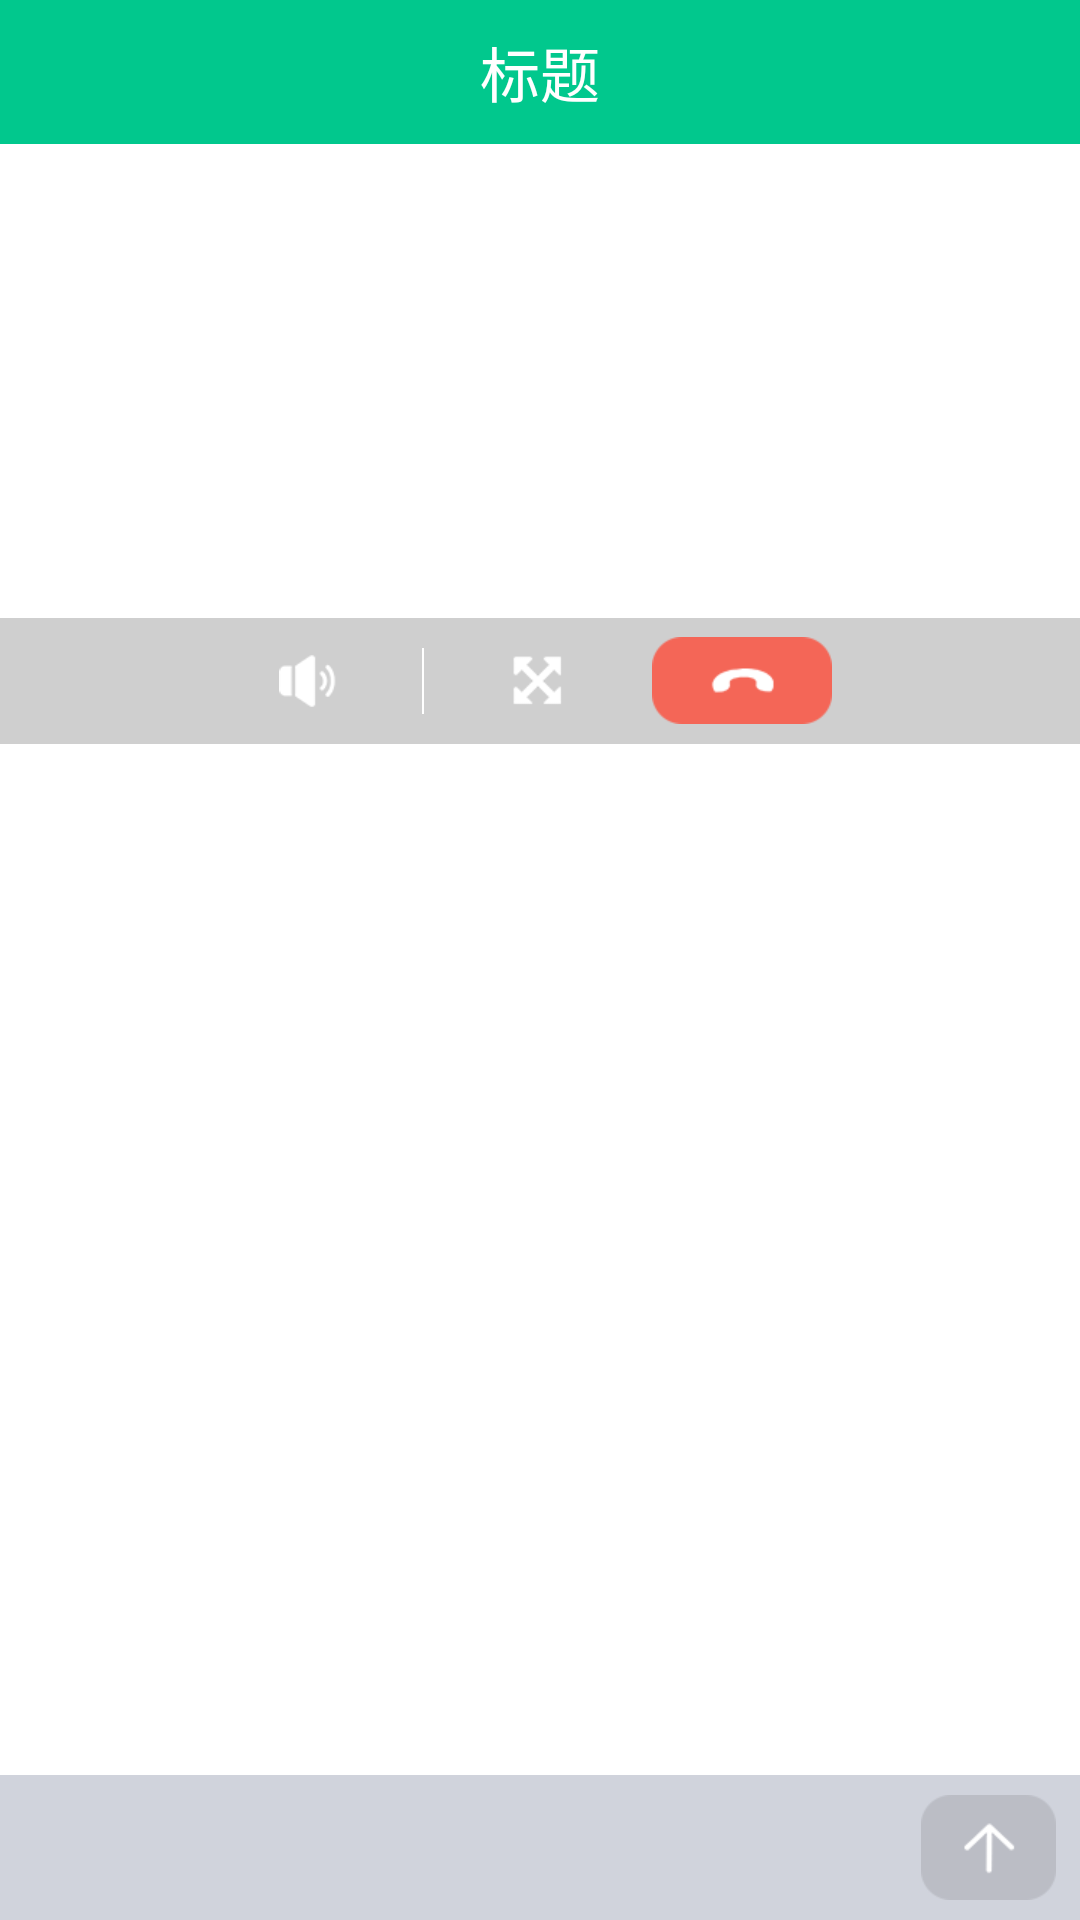

Where icons sit on this 1080×1920 app screen, as [x1, y1, x2, y2]:
full screen: [514, 657, 561, 704]
hang up: [652, 637, 832, 724]
send: [921, 1795, 1056, 1900]
volume: [279, 655, 335, 707]
